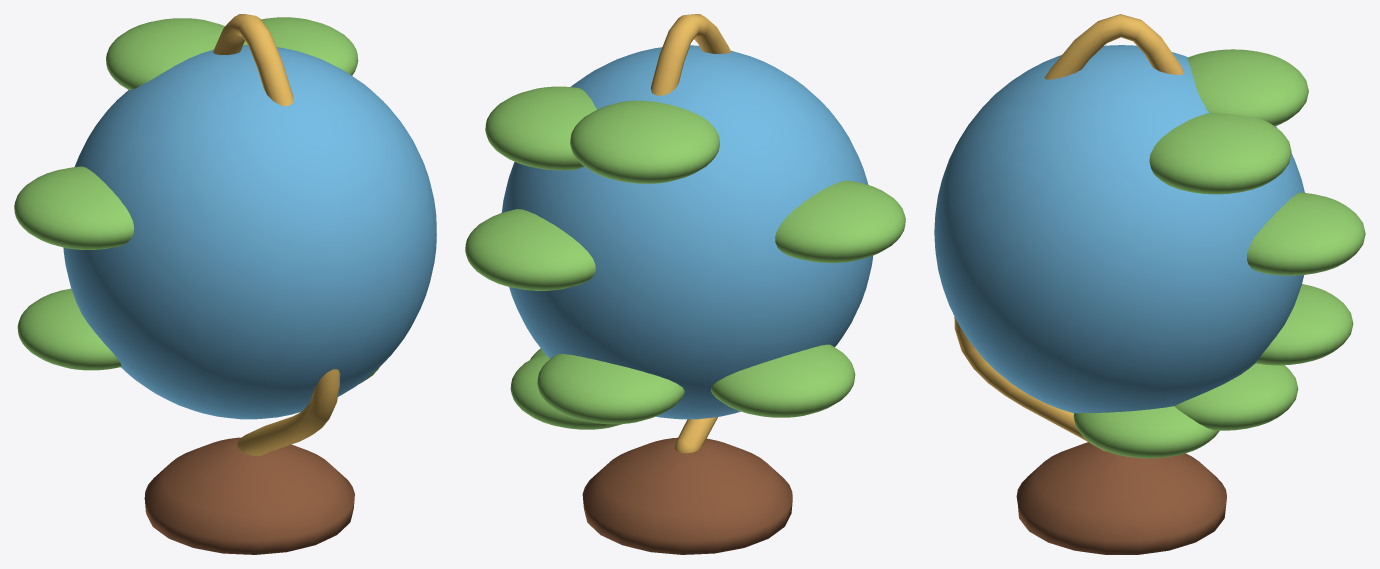
Rendered from deco_globo_terraqueo.glb.
3 views of the same model, side by side, from view 1: azimuth 30°, elevation 25°; view 2: azimuth 150°, elevation 25°; view 3: azimuth 270°, elevation 25° (orthographic).
Visible parts, largest first — view 1: globo.001, base globo.001, continente 7.001, eje globo.001, continente 1.001, continente 4.001, continente 5.001; view 2: globo.001, base globo.001, continente 1.001, continente 7.001, continente 2.001, continente 6.001, continente 4.001, continente 5.001, eje globo.001, continente 0.001; view 3: globo.001, base globo.001, continente 5.001, continente 2.001, continente 1.001, eje globo.001, continente 3.001, continente 0.001, continente 6.001.
Boxes of the visible parts, bbox=[...] form: globo.001: bbox=[63, 45, 436, 419]; base globo.001: bbox=[144, 437, 354, 554]; continente 7.001: bbox=[14, 166, 133, 249]; eje globo.001: bbox=[213, 14, 340, 455]; continente 1.001: bbox=[106, 18, 247, 90]; continente 4.001: bbox=[17, 288, 121, 370]; continente 5.001: bbox=[261, 17, 358, 75]; globo.001: bbox=[501, 45, 872, 419]; base globo.001: bbox=[582, 437, 792, 554]; continente 1.001: bbox=[570, 100, 719, 183]; continente 7.001: bbox=[775, 180, 905, 262]; continente 2.001: bbox=[465, 209, 595, 290]; continente 6.001: bbox=[537, 354, 684, 424]; continente 4.001: bbox=[711, 344, 855, 417]; continente 5.001: bbox=[485, 86, 596, 170]; eje globo.001: bbox=[650, 14, 730, 453]; continente 0.001: bbox=[510, 353, 622, 429]; globo.001: bbox=[934, 45, 1304, 413]; base globo.001: bbox=[1016, 442, 1226, 554]; continente 5.001: bbox=[1149, 113, 1291, 194]; continente 2.001: bbox=[1247, 192, 1365, 275]; continente 1.001: bbox=[1187, 49, 1308, 126]; eje globo.001: bbox=[954, 14, 1184, 451]; continente 3.001: bbox=[1073, 406, 1219, 458]; continente 0.001: bbox=[1174, 363, 1298, 430]; continente 6.001: bbox=[1256, 284, 1353, 365].
Size of the model in its own units: 0.2777 by 0.3516 by 0.2731.
